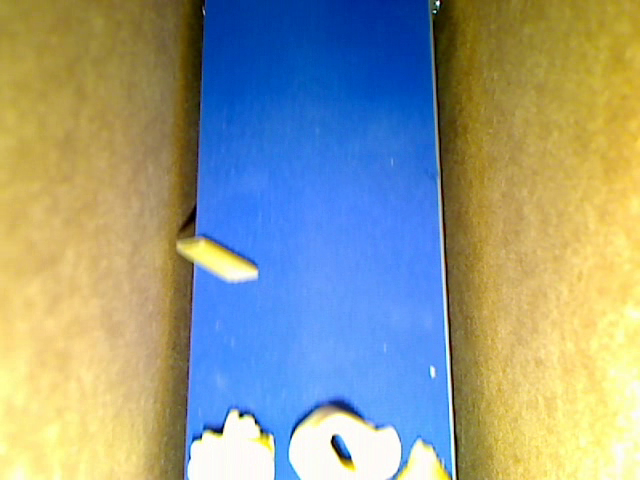penne: (175, 235, 260, 284)
shell: (397, 436, 452, 479)
tortellini: (287, 403, 401, 479)
